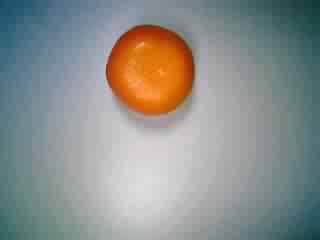orange: (106, 23, 199, 119)
